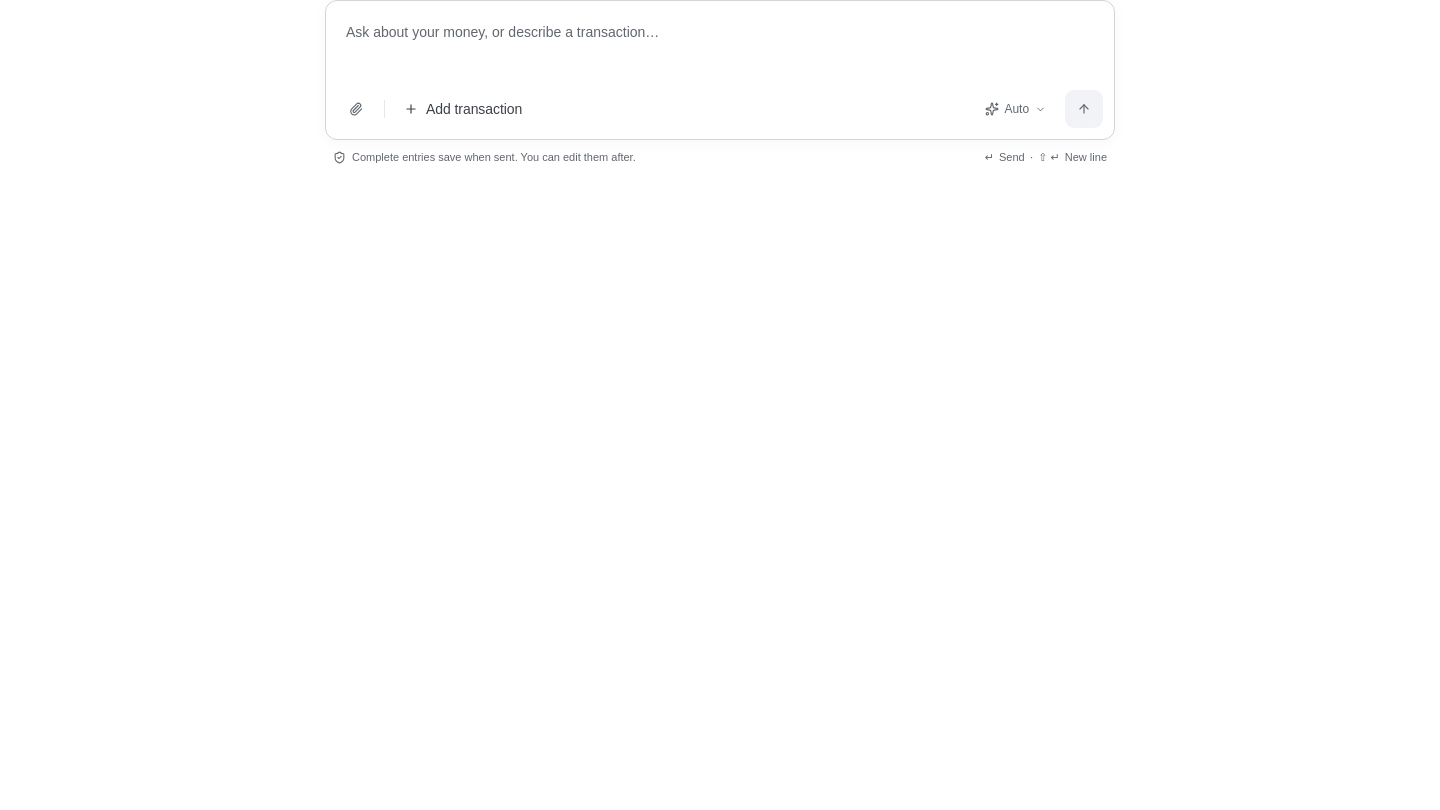
Test: finance composer journey › keeps entered details available when saving fails
Step 1. Click the button "Add transaction" → (463, 109), box [393, 89, 533, 129]
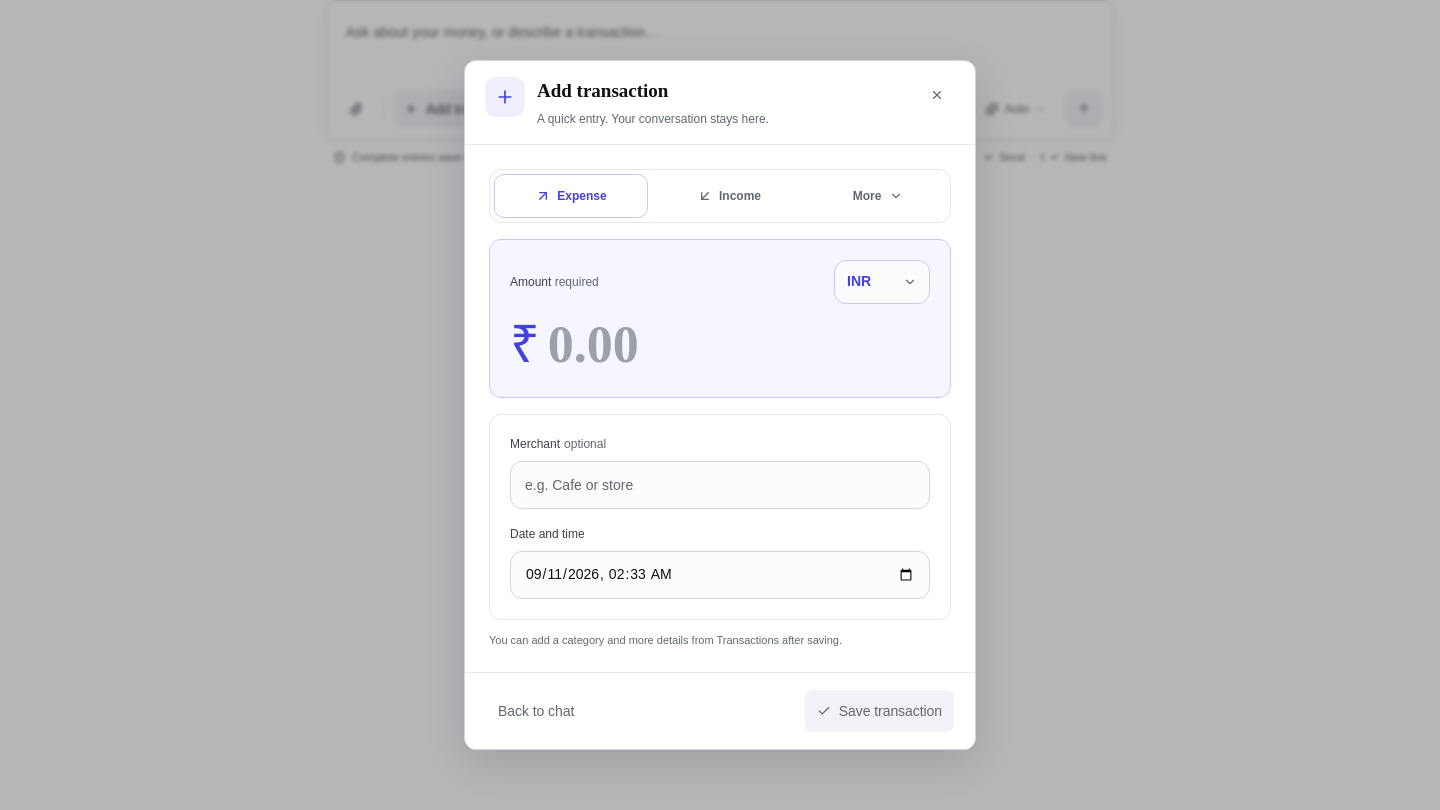
Step 2. Type "540" into the field named "Transaction amount" → (739, 344), box [548, 312, 930, 376]
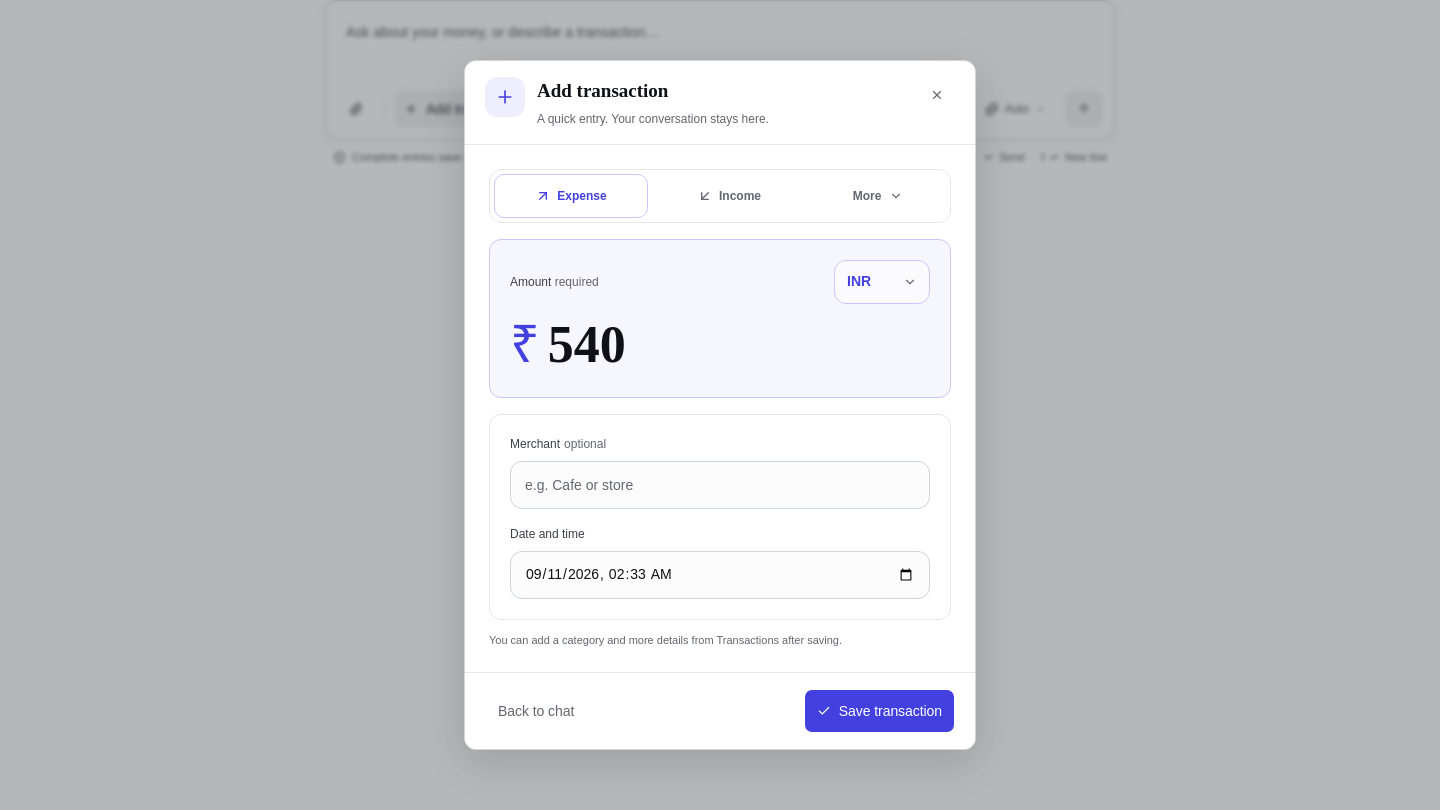
Step 3. Click the button "Save transaction" → (879, 711), box [804, 689, 955, 733]
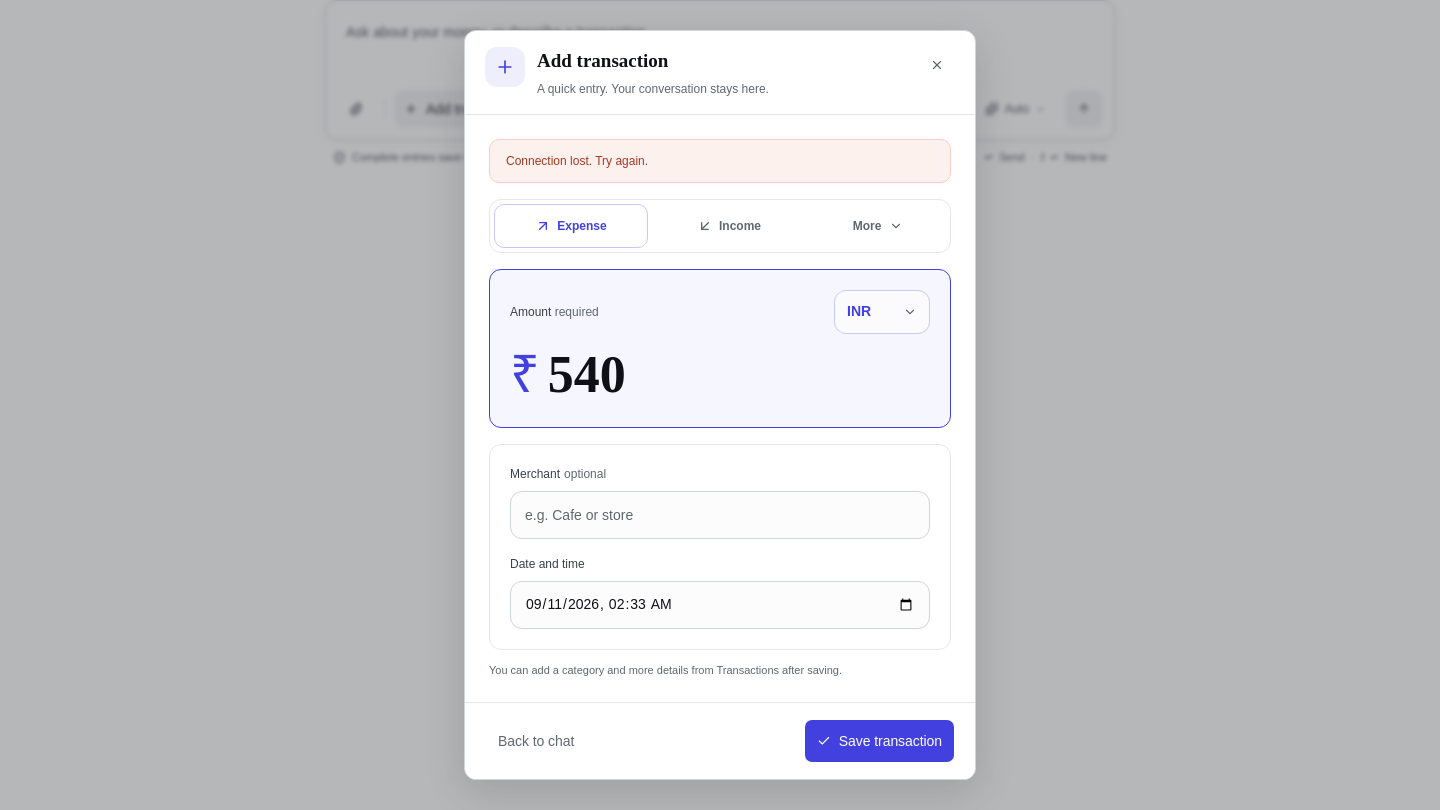
Check: the button "Save transaction" is enabled, box [804, 719, 955, 763]
Check: the message shows "Connection lost", box [506, 154, 648, 168]
